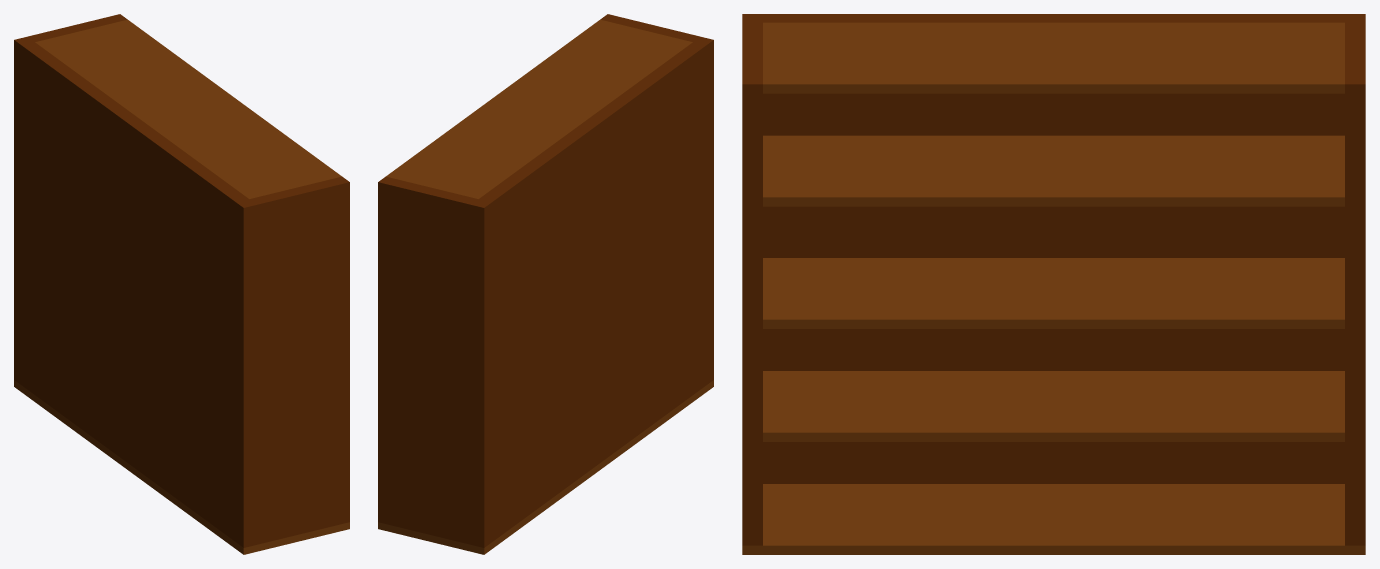
The model's file is bookshelf.obj.
3 renders of one model, left to right at view 1: azimuth 30°, elevation 25°; view 2: azimuth 150°, elevation 25°; view 3: azimuth 270°, elevation 25°, orthographic. The views are drawn at different scales.
Bounding box in the file's own units: 1.6 × 5 × 6.
Materials: 1 (1 with a texture image).
